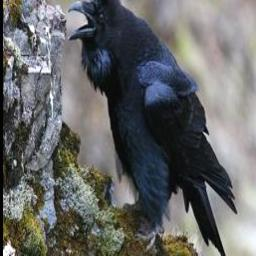Crow: (67, 0, 237, 256)
